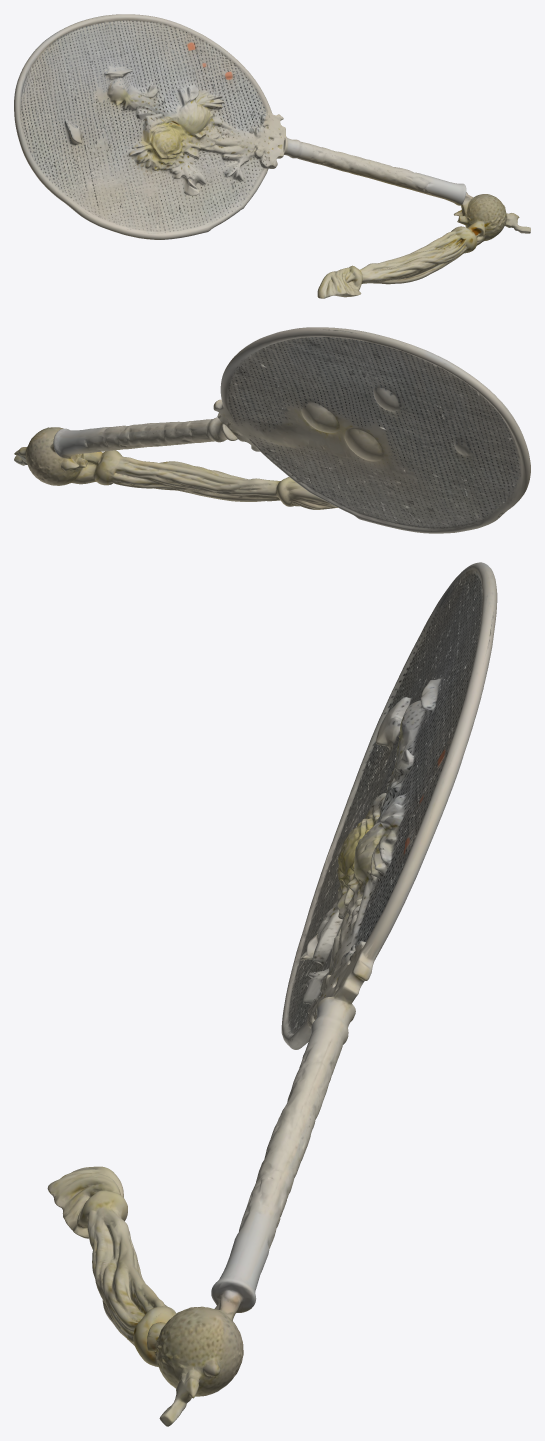
Rendered from ivory-finished.web.glb.
3 views of the same model, one above another, from view 1: azimuth 30°, elevation 25°; view 2: azimuth 150°, elevation 25°; view 3: azimuth 270°, elevation 25° (orthographic). The views are drawn at different scales.
Parts seen in each view (by area): view 1: material; view 2: material; view 3: material.
Part boxes in pixels (x1,y1,x2,y2): material: (14, 14, 530, 298); material: (14, 327, 530, 533); material: (47, 562, 497, 1426).
Bounding box in the file's own units: 1.06 × 0.555 × 0.4563.
1 material, 1 textured.
